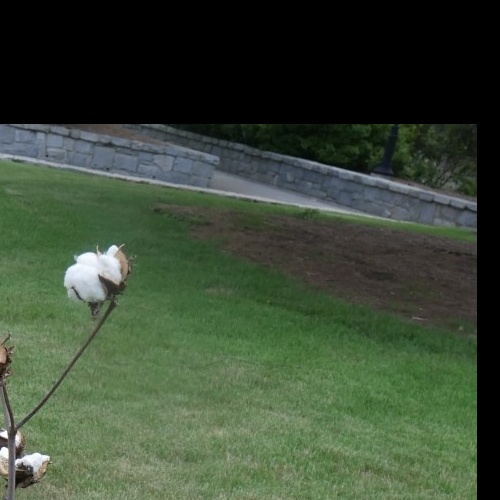mature_boll: (55, 219, 184, 346)
